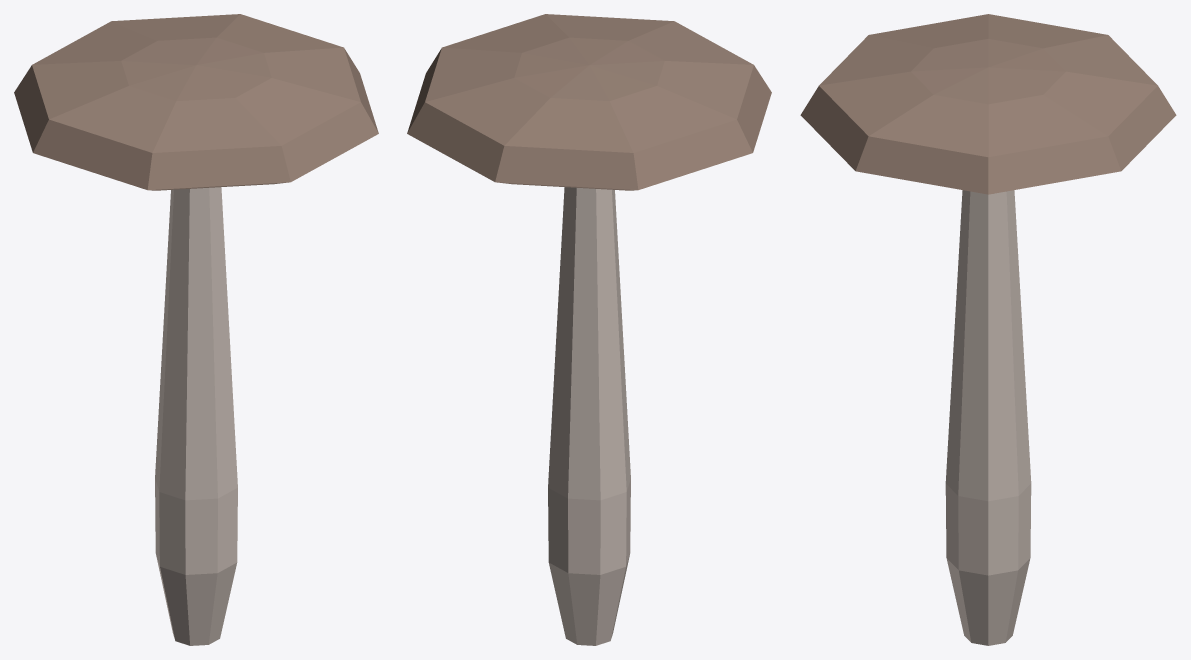
The model's file is Mushroom_14.fbx.
3 views of the same model, side by side, from view 1: azimuth 30°, elevation 25°; view 2: azimuth 150°, elevation 25°; view 3: azimuth 270°, elevation 25° (orthographic).
Parts seen in each view (by area): view 1: Mushroom_14; view 2: Mushroom_14; view 3: Mushroom_14.
Boxes of the visible parts, <box> form: Mushroom_14: <box>14,14,378,645</box>; Mushroom_14: <box>407,14,771,645</box>; Mushroom_14: <box>800,14,1176,645</box>.
Size of the model in its own units: 55.46 by 92.47 by 55.46.
